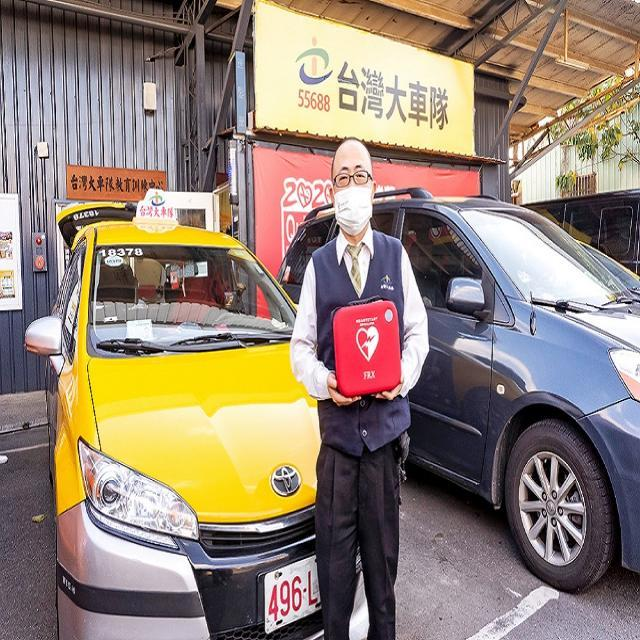Taxi: (25, 217, 322, 638)
